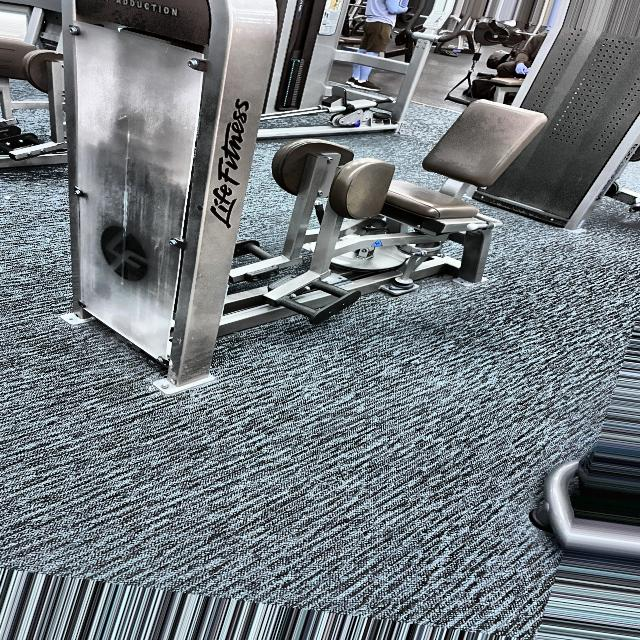hip_adduction_machine: (232, 92, 567, 344), (279, 112, 417, 342), (98, 0, 192, 34)
